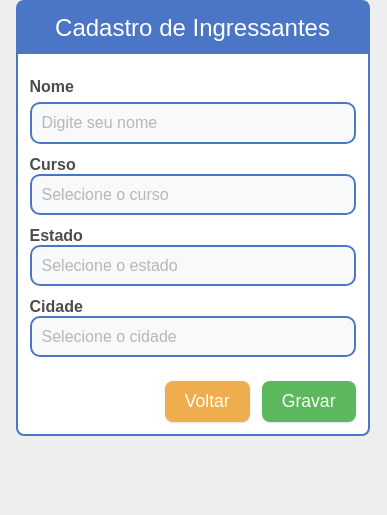
Test: Form de Cadastro de ingressantes › Validações do Campo Nome › Deve exibir erro de tamanho mínimo quando tiver menos de 3 letras
This screenshot has width=387, height=515.
Type "Ab" into the field labelled "Nome" at (192, 123), box [30,102,356,144]
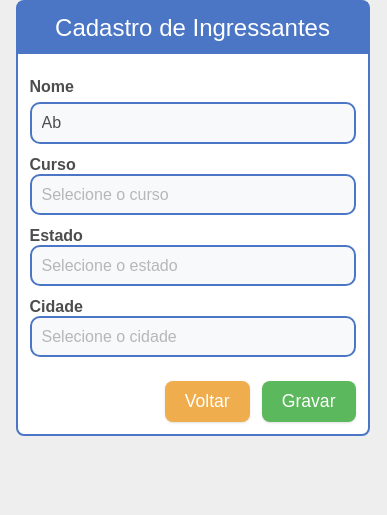
Click the button "Gravar" at (309, 402), box [262,381,356,422]
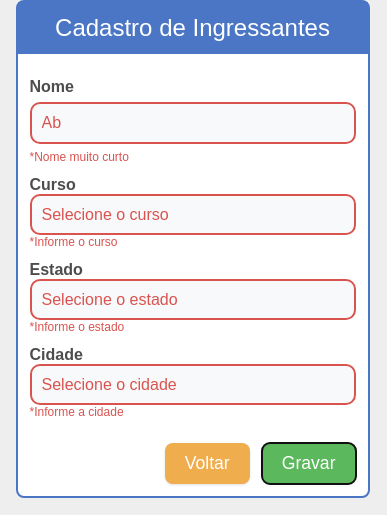
Now the text "*Nome muito curto" is shown, box [30,150,129,164]
